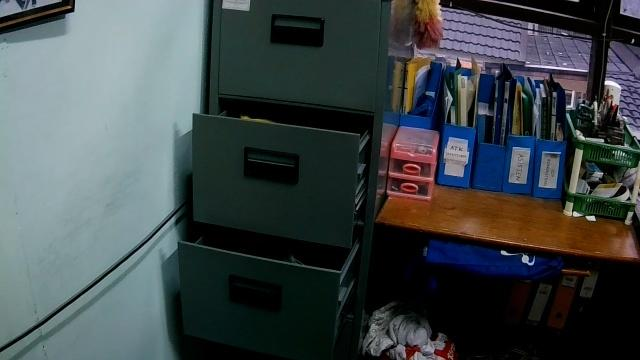Filing Cabinet: (176, 0, 393, 359)
